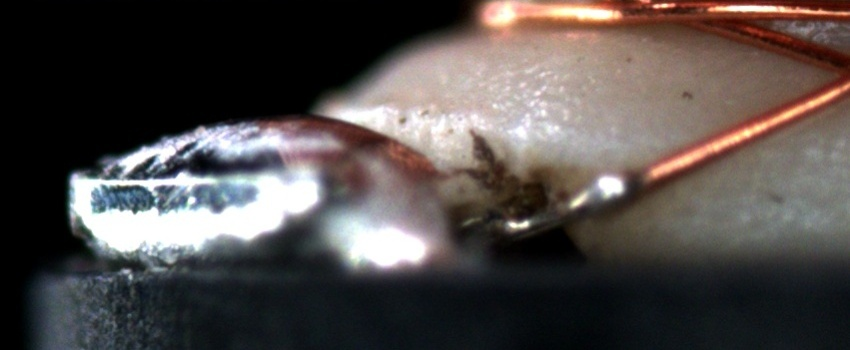TB: (579, 165, 647, 216)
TS: (502, 173, 646, 234)
TTCW: (492, 150, 686, 241)
